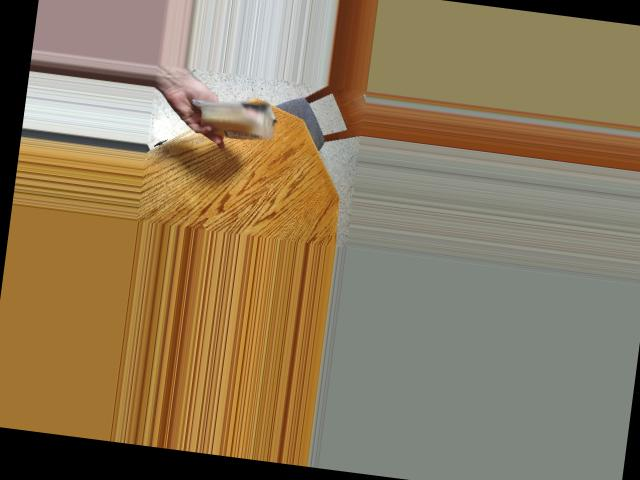cheese: (195, 87, 276, 151)
